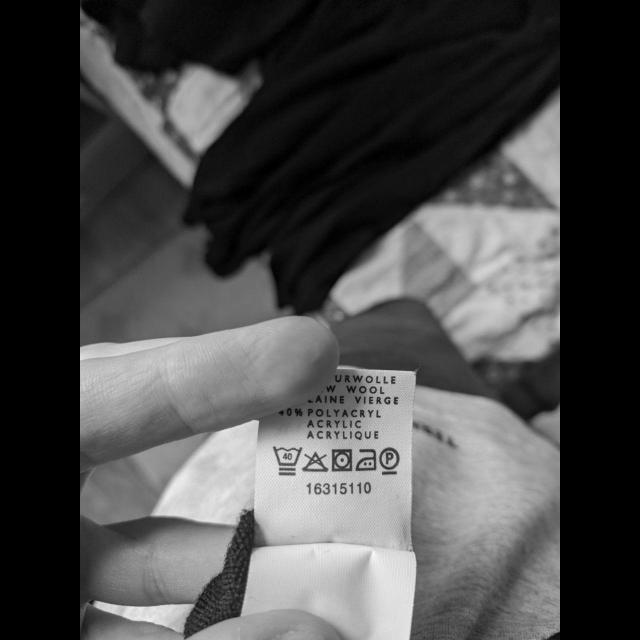40C: (270, 444, 304, 478)
DN_bleach: (300, 450, 330, 474)
iron_medium: (354, 446, 378, 472)
normal_dry_clean_solvents: (378, 446, 402, 476)
tumble_dry_low: (330, 448, 354, 472)
